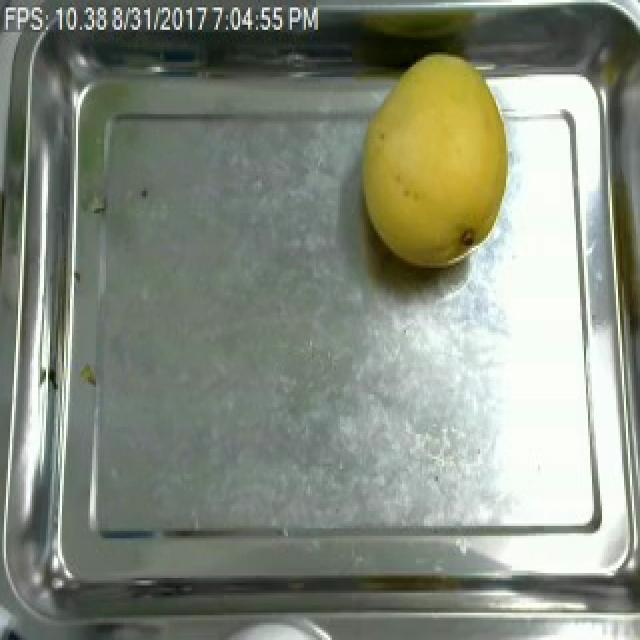fruit: (348, 45, 518, 280)
